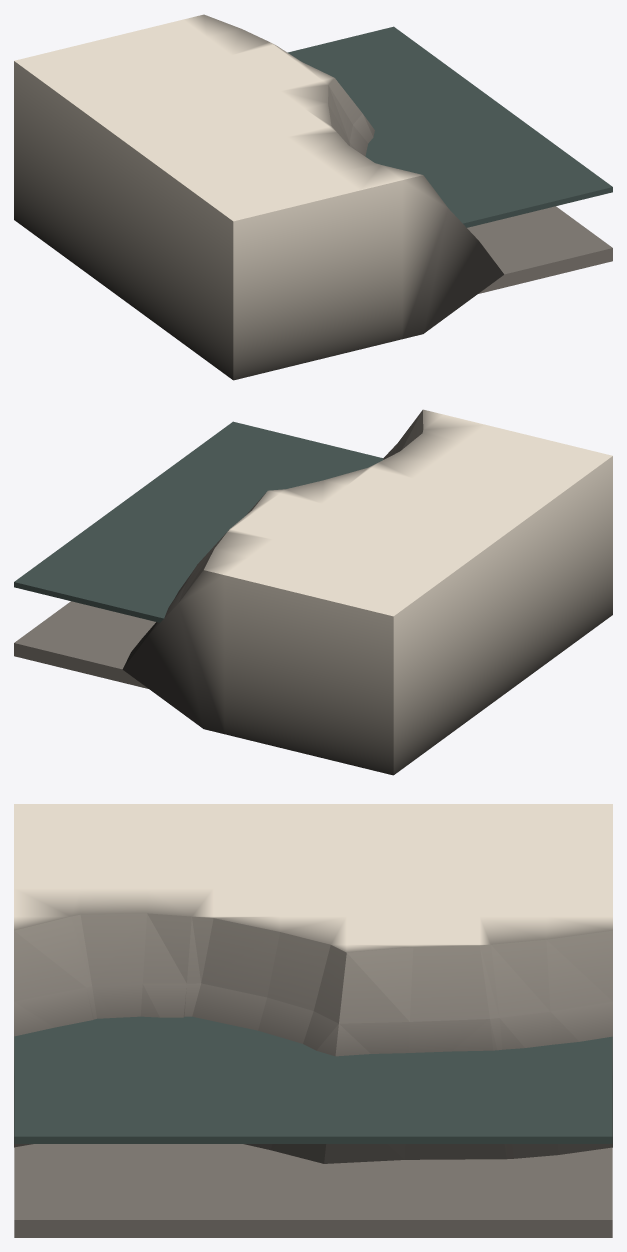
The model's file is SM_VKI_Ground_Stream_OXXO_Q01.fbx.
The picture shows the model from 3 angles, top to bottom: view 1: azimuth 30°, elevation 25°; view 2: azimuth 150°, elevation 25°; view 3: azimuth 270°, elevation 25°; orthographic projection. The views are drawn at different scales.
Parts seen in each view (by area): view 1: SM_VKI_Ground_Stream_OXXO_Q01.001; view 2: SM_VKI_Ground_Stream_OXXO_Q01.001; view 3: SM_VKI_Ground_Stream_OXXO_Q01.001.
Boxes of the visible parts, x1,y1,x2,y2 form: SM_VKI_Ground_Stream_OXXO_Q01.001: [14, 14, 612, 380]; SM_VKI_Ground_Stream_OXXO_Q01.001: [14, 409, 612, 775]; SM_VKI_Ground_Stream_OXXO_Q01.001: [14, 804, 612, 1237].
Size of the model in its own units: 1.5 by 0.6 by 1.5.
